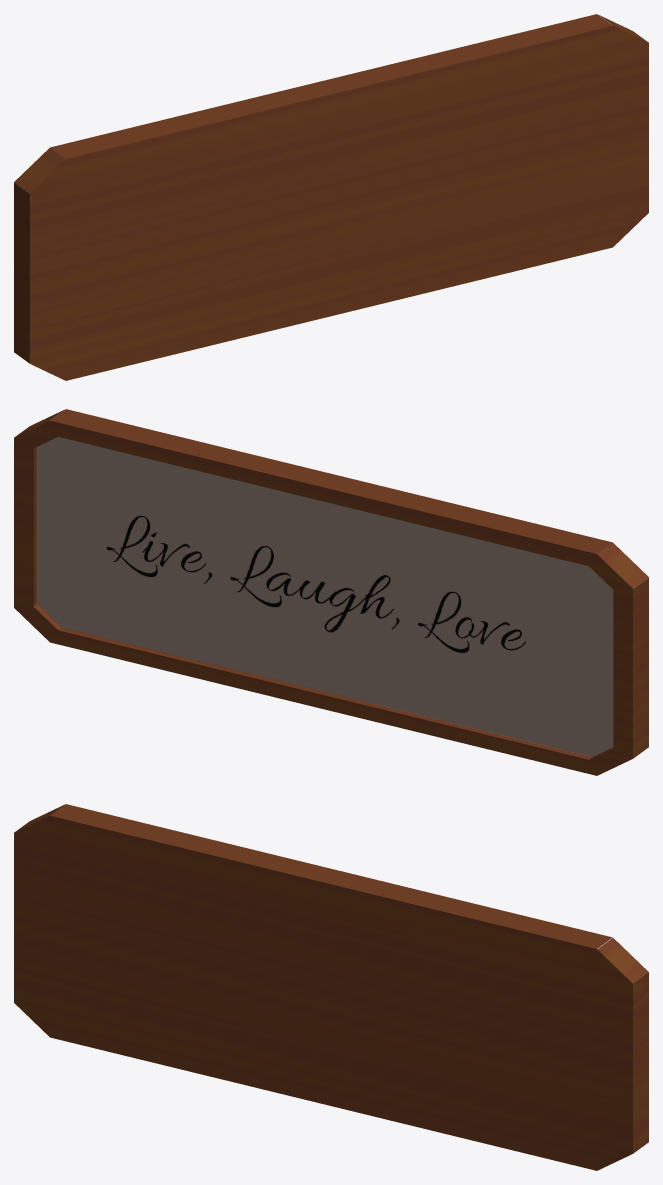
File: signFunny.fbx
The picture shows the model from 3 angles, top to bottom: view 1: azimuth 30°, elevation 25°; view 2: azimuth 150°, elevation 25°; view 3: azimuth 330°, elevation 25°; orthographic projection.
Visible parts, largest first — view 1: Cube; view 2: Cube; view 3: Cube.
Boxes of the visible parts, x1,y1,x2,y2 form: Cube: [14, 14, 648, 380]; Cube: [14, 409, 648, 775]; Cube: [14, 804, 648, 1170].
Size of the model in its own units: 670 by 229 by 29.8.
1 material, 1 textured.
